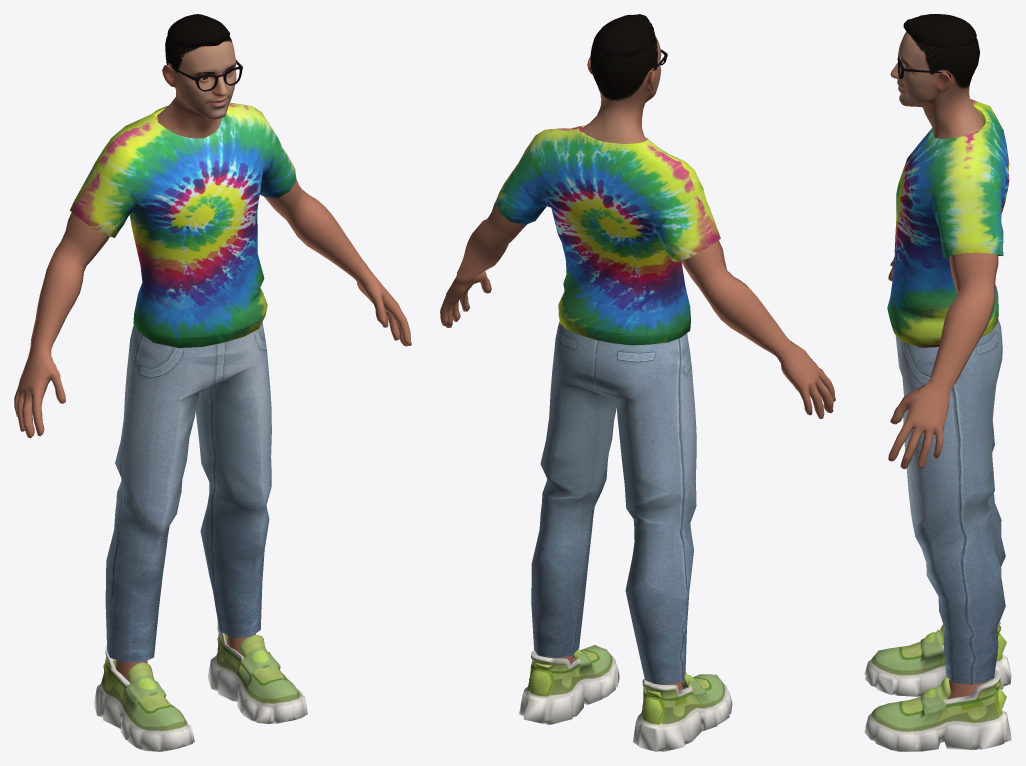
File: NPC4.fbx
3 renders of one model, left to right at view 1: azimuth 30°, elevation 25°; view 2: azimuth 150°, elevation 25°; view 3: azimuth 270°, elevation 25°, orthographic.
Visible parts, largest first — view 1: Wolf3D_Outfit_Footwear; view 2: Wolf3D_Outfit_Footwear; view 3: Wolf3D_Outfit_Footwear.
Boxes of the visible parts, left/top/right/bottom form: Wolf3D_Outfit_Footwear: left=14, top=14, right=411, bottom=751; Wolf3D_Outfit_Footwear: left=440, top=14, right=835, bottom=751; Wolf3D_Outfit_Footwear: left=864, top=14, right=1011, bottom=751.
Size of the model in its own units: 106 by 184 by 35.25.
9 materials, 9 textured.
